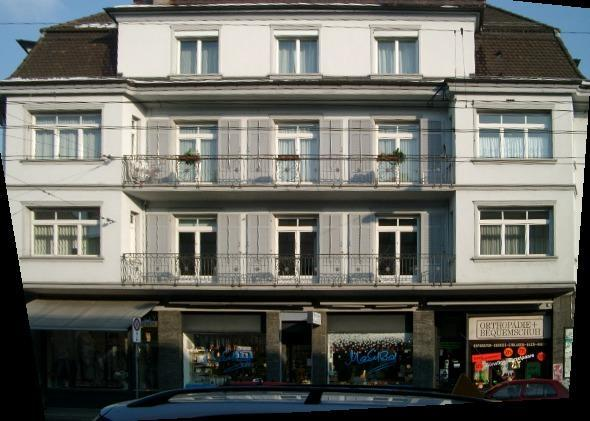window: (26, 208, 100, 258), (28, 111, 102, 160), (478, 111, 552, 160), (480, 208, 553, 257), (275, 215, 320, 286), (174, 215, 218, 286), (378, 216, 423, 284), (174, 120, 219, 187), (376, 121, 421, 187), (275, 121, 320, 186), (175, 31, 220, 75), (274, 30, 319, 74), (374, 32, 419, 75)
